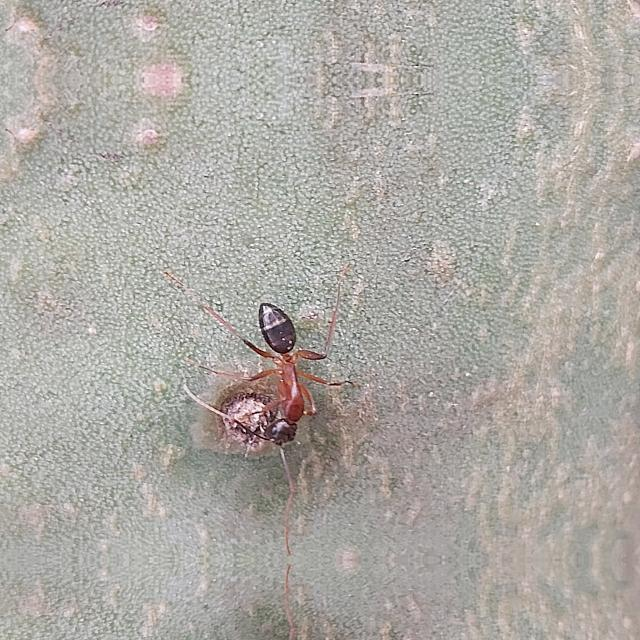Camponotus: (218, 283, 348, 493)
